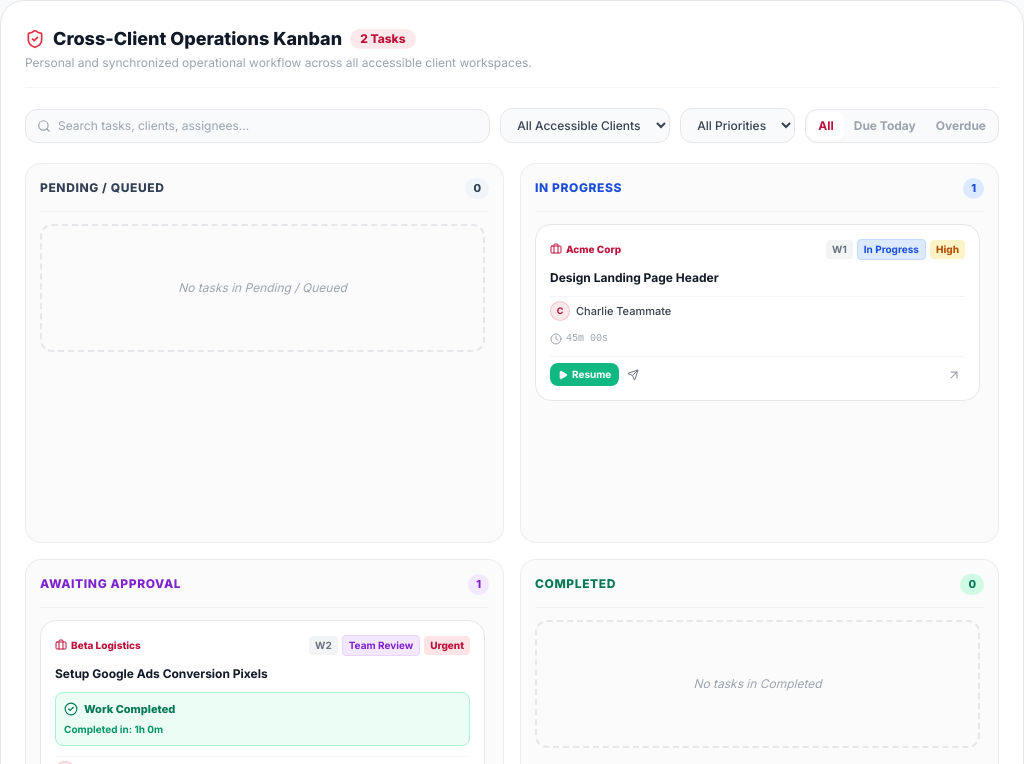
Test: Synchronized Operations & Dashboards Feature Suite › 1. PersonalCrossClientKanban Component › filters tasks by priority
The image size is (1024, 764).
Select "Urgent" in the 2nd dropdown showing "All Priorities": (738, 126) [680,108,795,143]
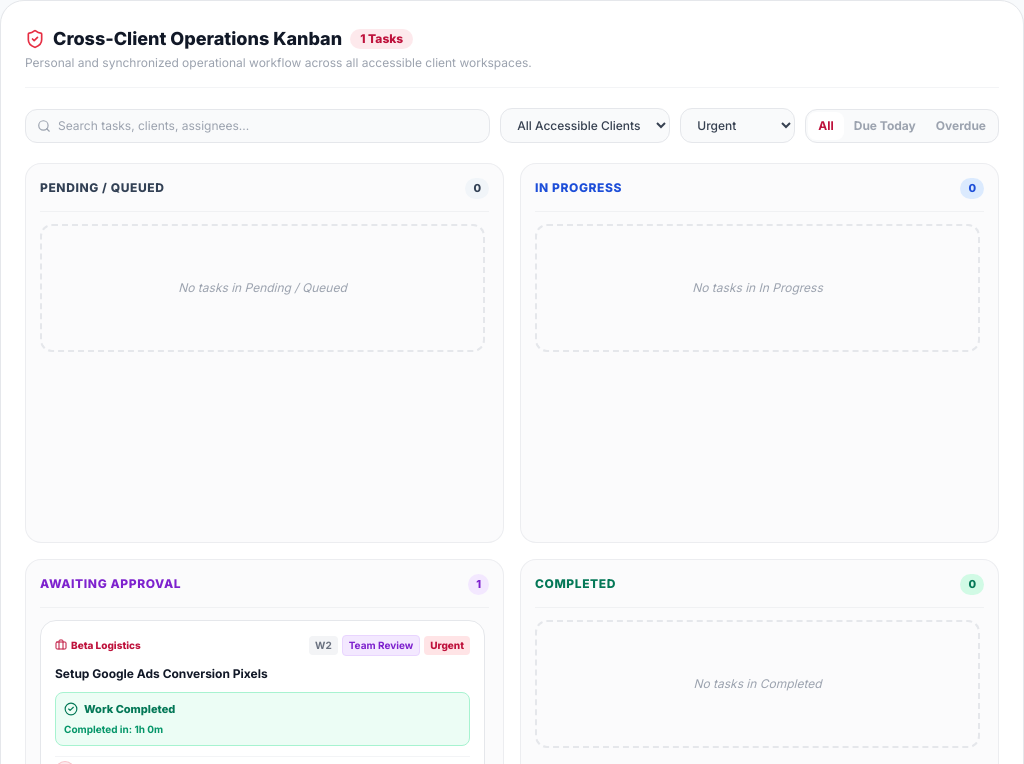
Expected: the heading "Setup Google Ads Conversion Pixels" is shown, [55,666,268,680]
Expected: the heading "Design Landing Page Header" is gone
